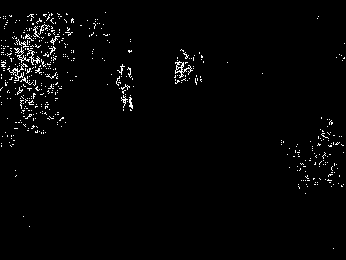person: (114, 54, 142, 112)
